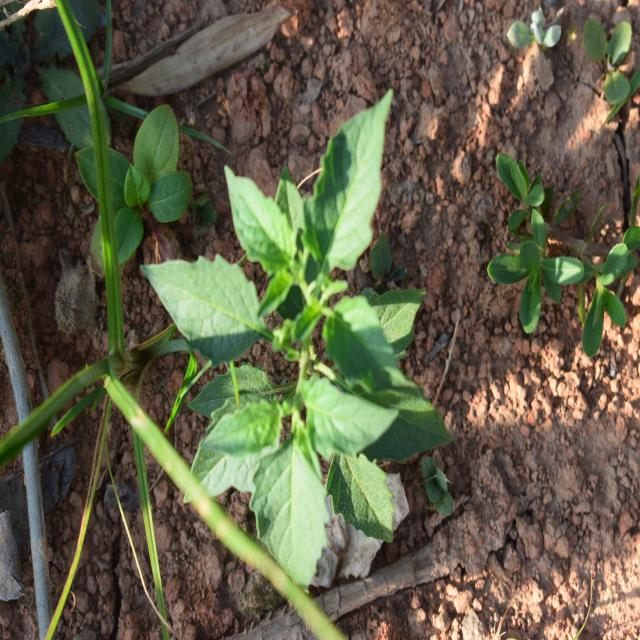Black_nightshade: (166, 133, 430, 545)
